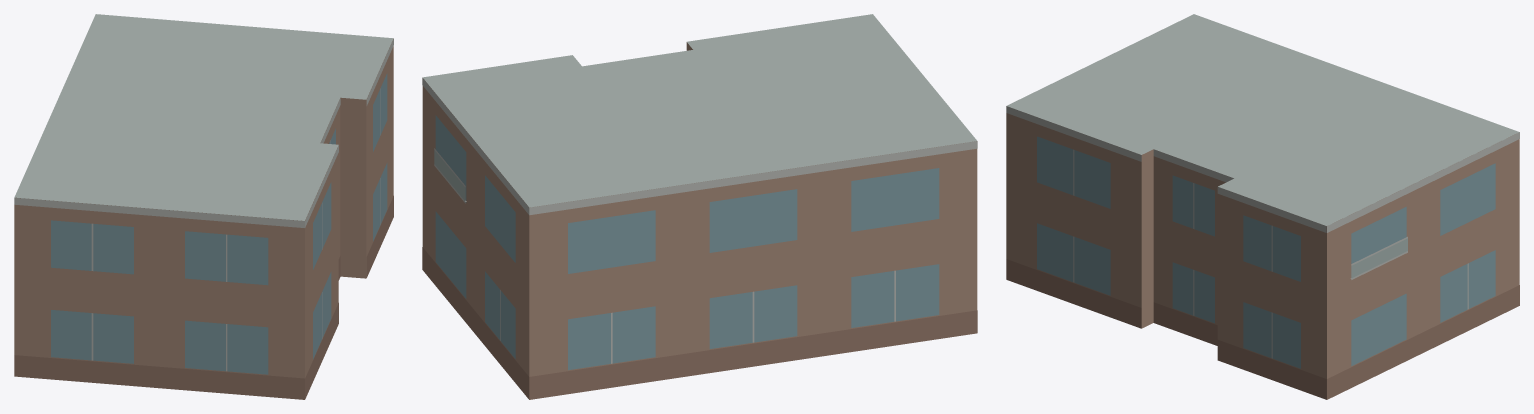
The model's file is survey-upis-33006573.glb.
3 renders of one model, left to right at view 1: azimuth 30°, elevation 25°; view 2: azimuth 150°, elevation 25°; view 3: azimuth 270°, elevation 25°, orthographic. The views are drawn at different scales.
Parts seen in each view (by area): view 1: survey-upis-33006573.tmp; view 2: survey-upis-33006573.tmp; view 3: survey-upis-33006573.tmp.
Part boxes in pixels (<box>): survey-upis-33006573.tmp: <box>14,14,393,399</box>; survey-upis-33006573.tmp: <box>422,14,977,399</box>; survey-upis-33006573.tmp: <box>1006,14,1519,399</box>.
Size of the model in its own units: 15.99 by 6.1 by 16.35.
